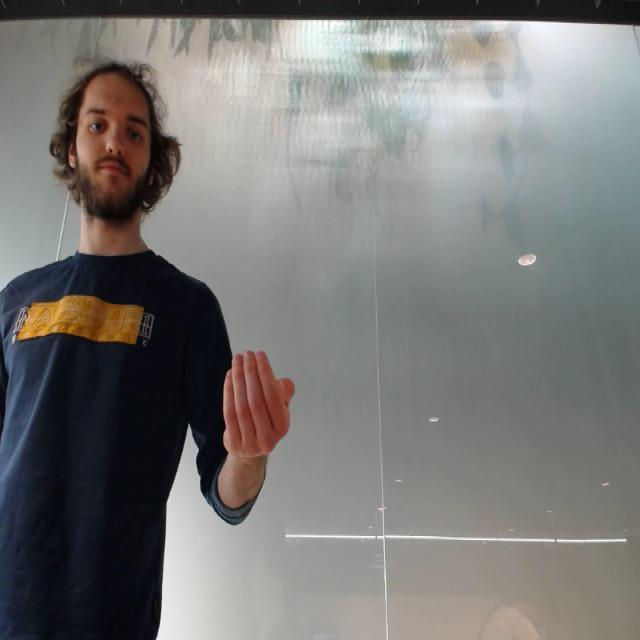forward: (211, 340, 305, 470)
